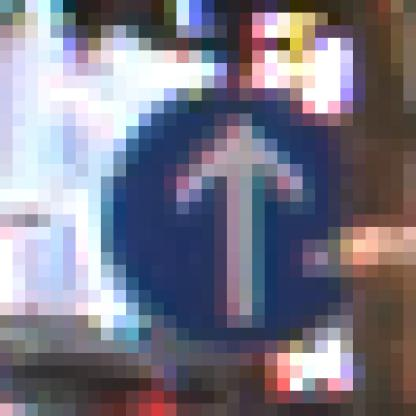AheadOnly: (77, 64, 354, 341)
